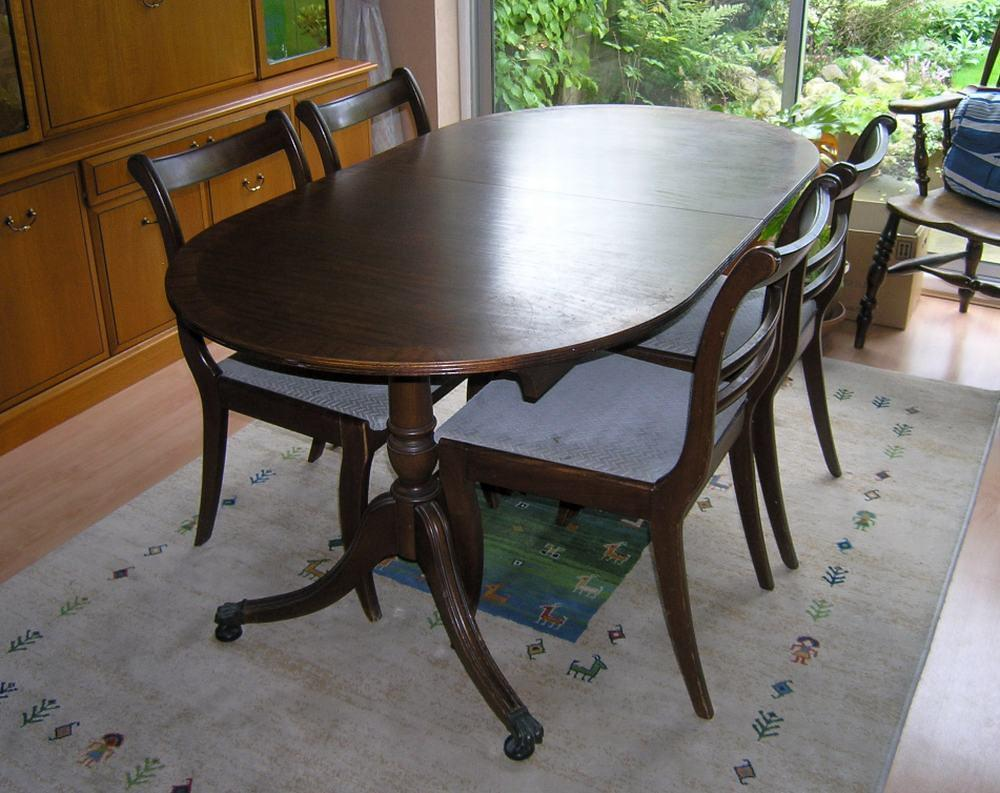table: (162, 101, 822, 760)
